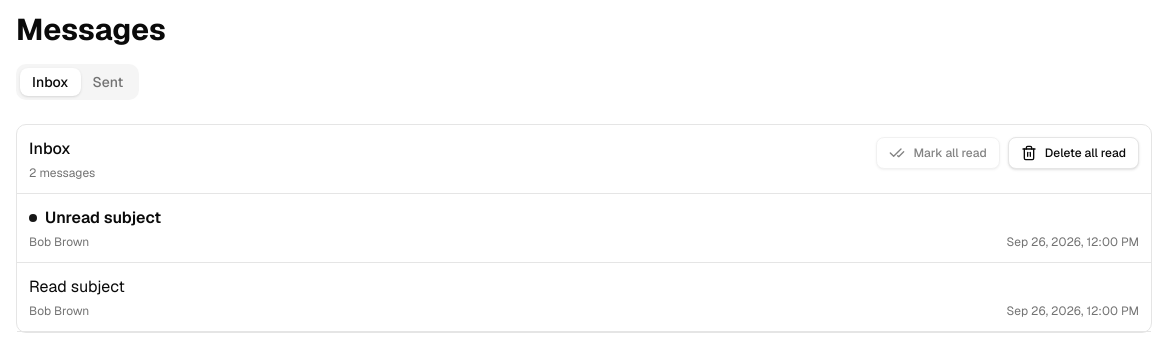
Test: MessagesPage delete controls › shows a sent message as deleted when the recipient deleted it
The image size is (1164, 350).
Click the tab "Sent" at (108, 82), box [80,68,135,96]
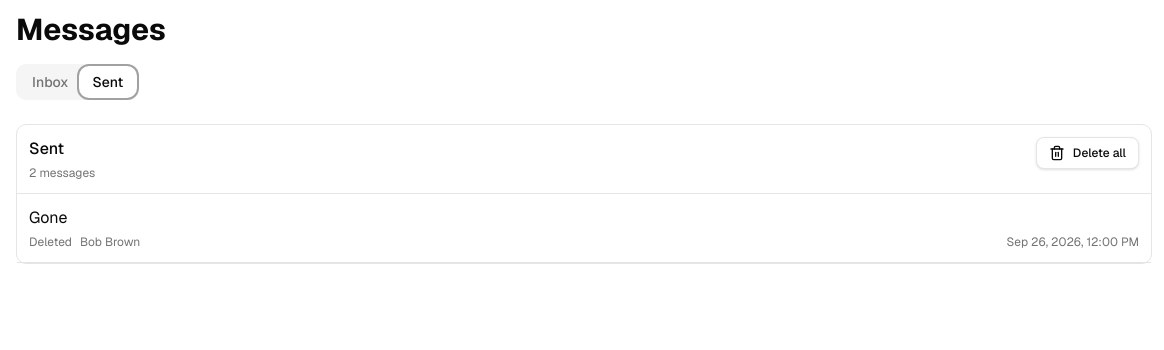
Result: the text "Deleted" is shown at [29,234,72,250]
Result: the button "Unread" is gone
